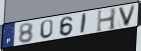0: (39, 19, 54, 40)
6: (58, 15, 75, 37)
8: (18, 22, 34, 44)
H: (96, 7, 118, 34)
I: (79, 12, 88, 35)
V: (117, 4, 138, 28)
